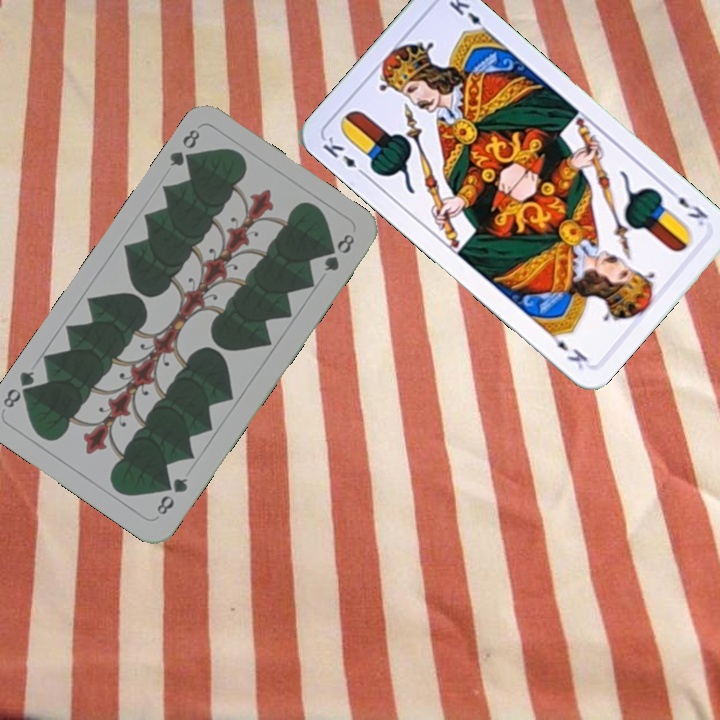EK: (318, 132, 370, 180), (663, 184, 711, 229)
G8: (152, 473, 191, 518), (165, 125, 203, 171)
